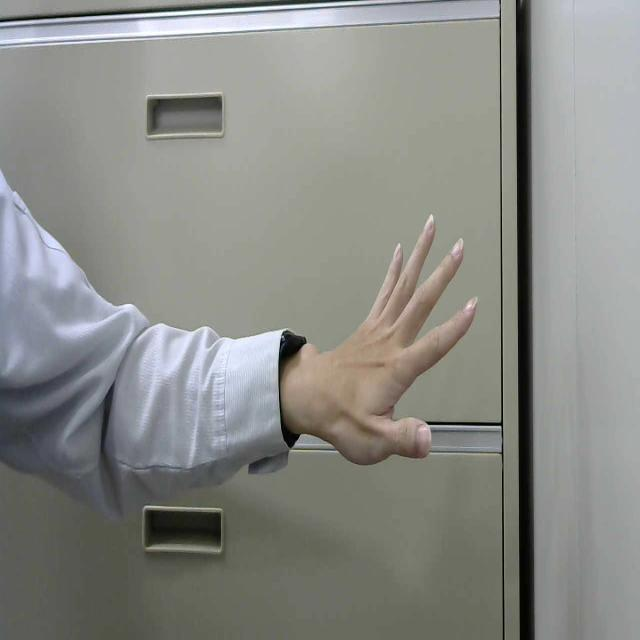Paper: (317, 207, 491, 508)
